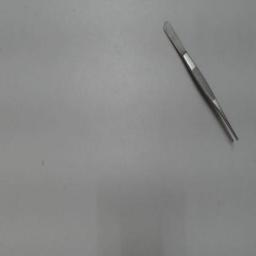Gillies Toothed Dissector: (158, 16, 246, 150)
